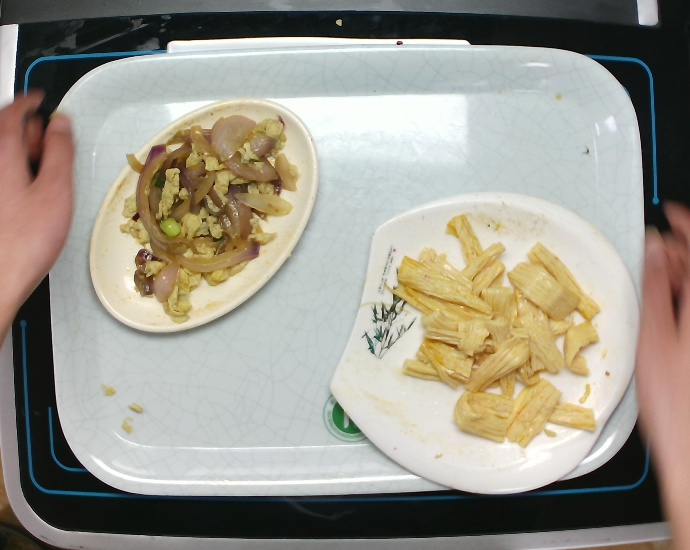JYsf-Mian_Pan: (326, 182, 644, 500)
JYsf-Tuo_Yuan_Wan: (83, 93, 323, 339)
